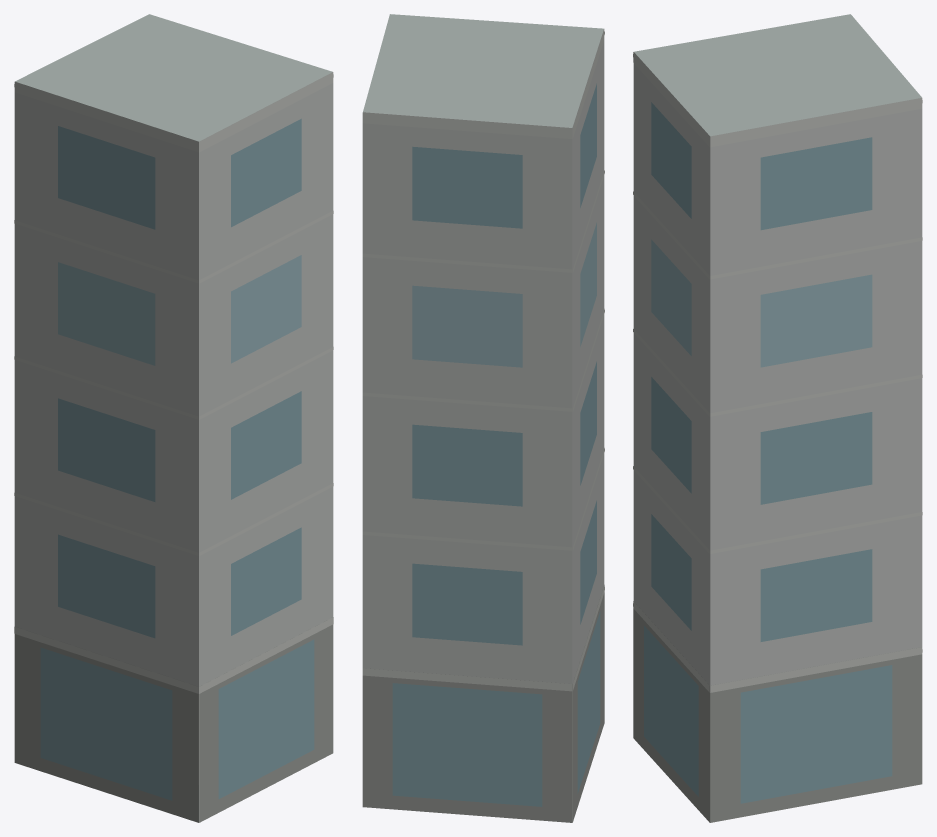
Rendered from survey-upis-32708595.glb.
3 views of the same model, side by side, from view 1: azimuth 30°, elevation 25°; view 2: azimuth 150°, elevation 25°; view 3: azimuth 270°, elevation 25° (orthographic).
Parts seen in each view (by area): view 1: survey-upis-32708595.tmp; view 2: survey-upis-32708595.tmp; view 3: survey-upis-32708595.tmp.
Part boxes in pixels (x1=…): survey-upis-32708595.tmp: x1=14, y1=14, x2=333, y2=822; survey-upis-32708595.tmp: x1=362, y1=14, x2=604, y2=822; survey-upis-32708595.tmp: x1=633, y1=14, x2=922, y2=822.
Bounding box in the file's own units: 5.85 × 15.25 × 5.84.
